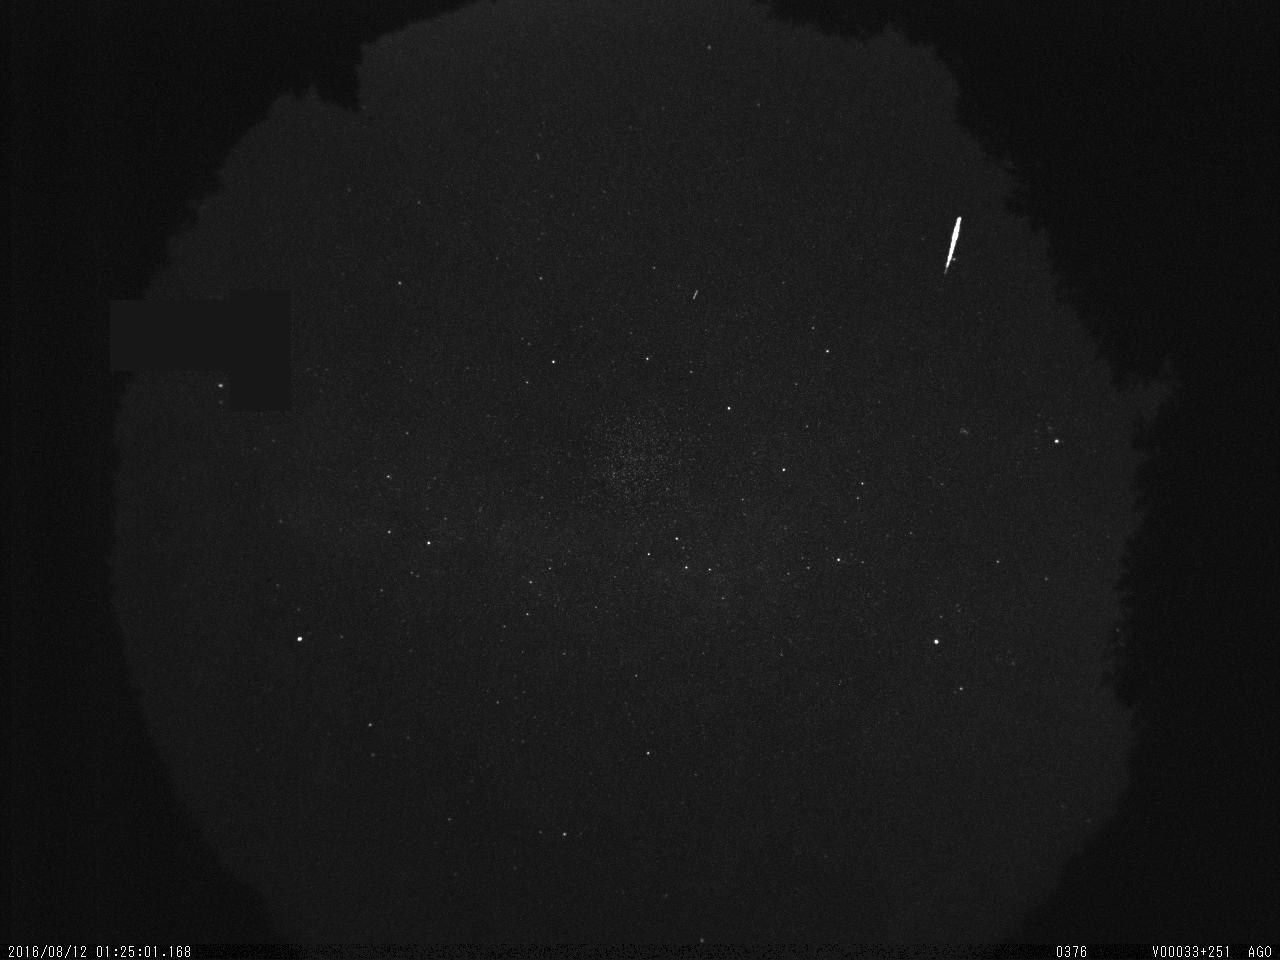meteor: (892, 181, 1000, 297)
